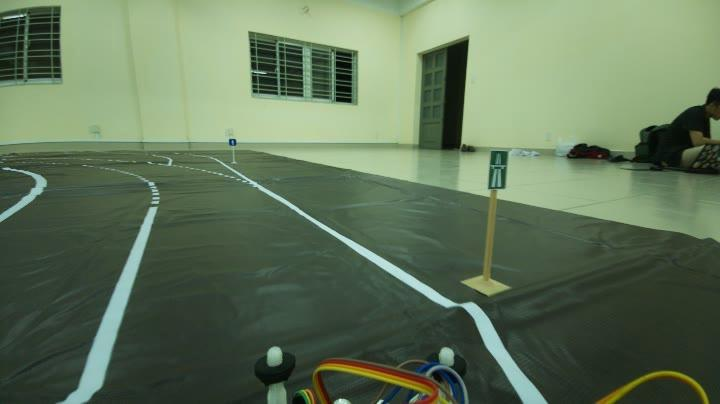highway_entry: (475, 141, 517, 196)
